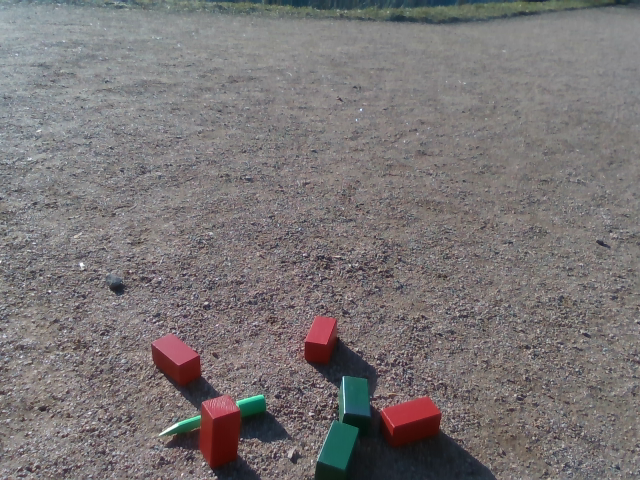Probe: (157, 390, 269, 435)
